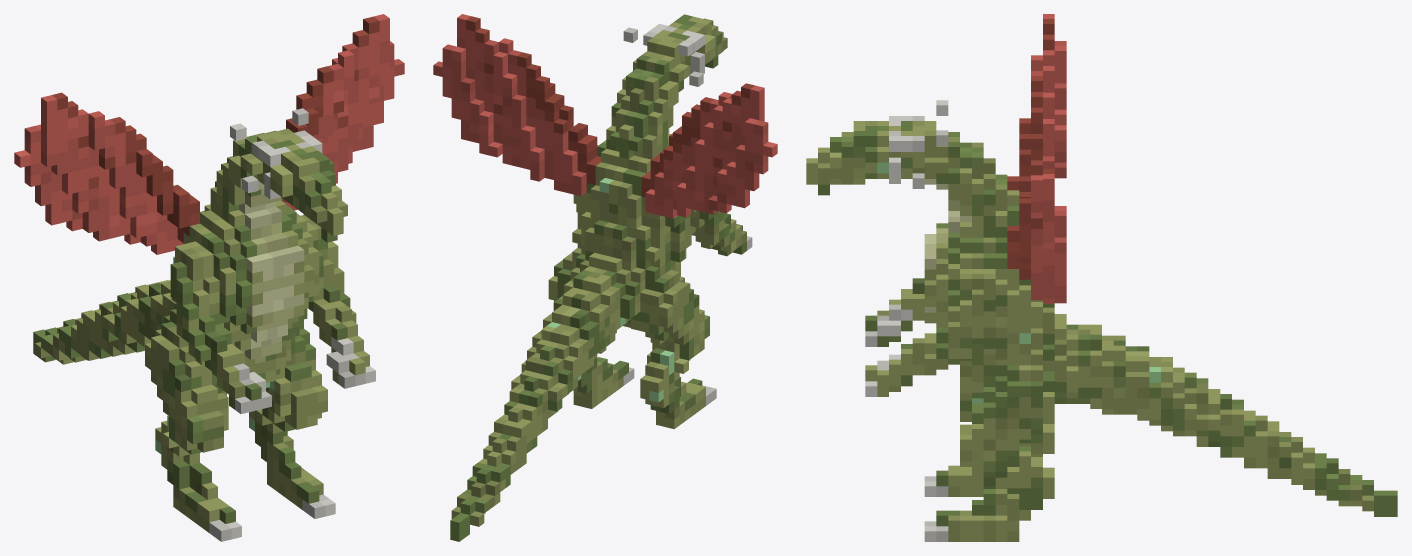
File: mire_mother.glb
3 views of the same model, side by side, from view 1: azimuth 30°, elevation 25°; view 2: azimuth 150°, elevation 25°; view 3: azimuth 270°, elevation 25° (orthographic). The views are drawn at different scales.
Visible parts, largest first — view 1: mire_mother; view 2: mire_mother; view 3: mire_mother.
Boxes of the visible parts, x1,y1,x2,y2 form: mire_mother: [14, 14, 404, 541]; mire_mother: [433, 14, 777, 541]; mire_mother: [806, 14, 1397, 541].
Size of the model in its own units: 3.7 by 3.9 by 5.
